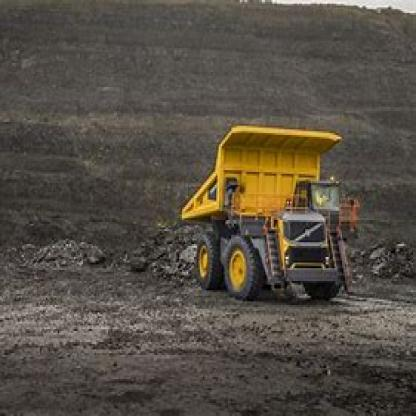dump_truck: (175, 120, 355, 307)
